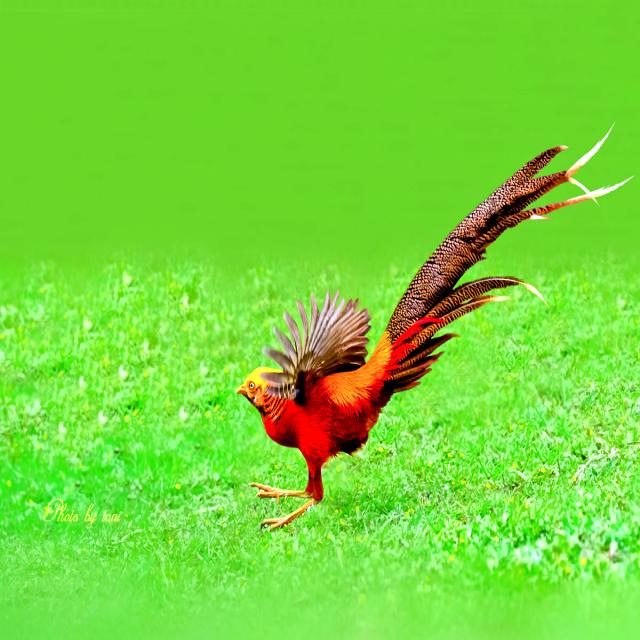Chrysolophus pictus feather: (380, 132, 609, 392)
